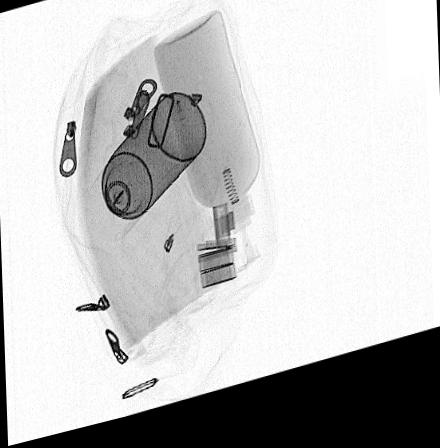Sprayer: (79, 98, 209, 249)
